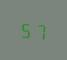five: (19, 18, 32, 39)
seven: (33, 20, 46, 41)
